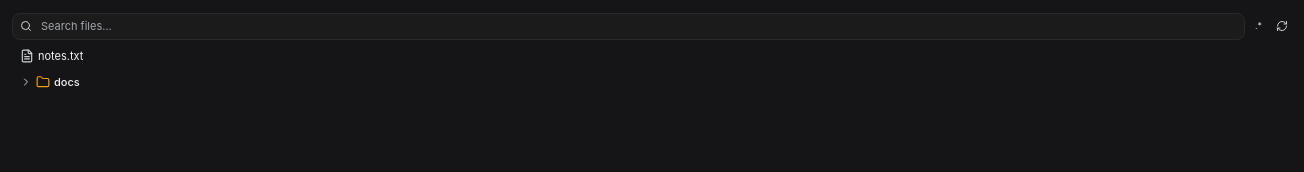
FileExplorer browser › shows the no-matches state for an empty result set
The image size is (1304, 172).
Type "zzz" into the field with test id "file-search" at (628, 26), box [12,13,1245,40]
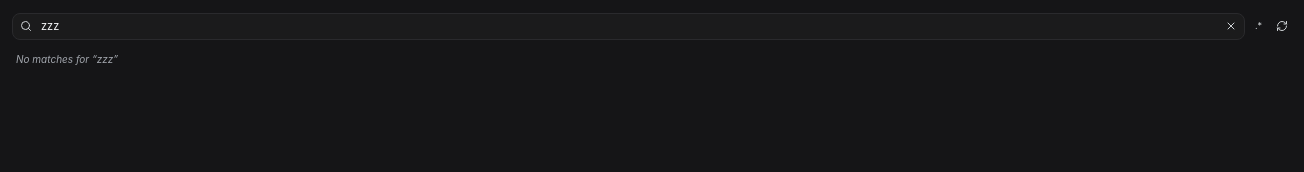
Result: the text "No matches for “zzz”" is shown at [16,52,118,64]
